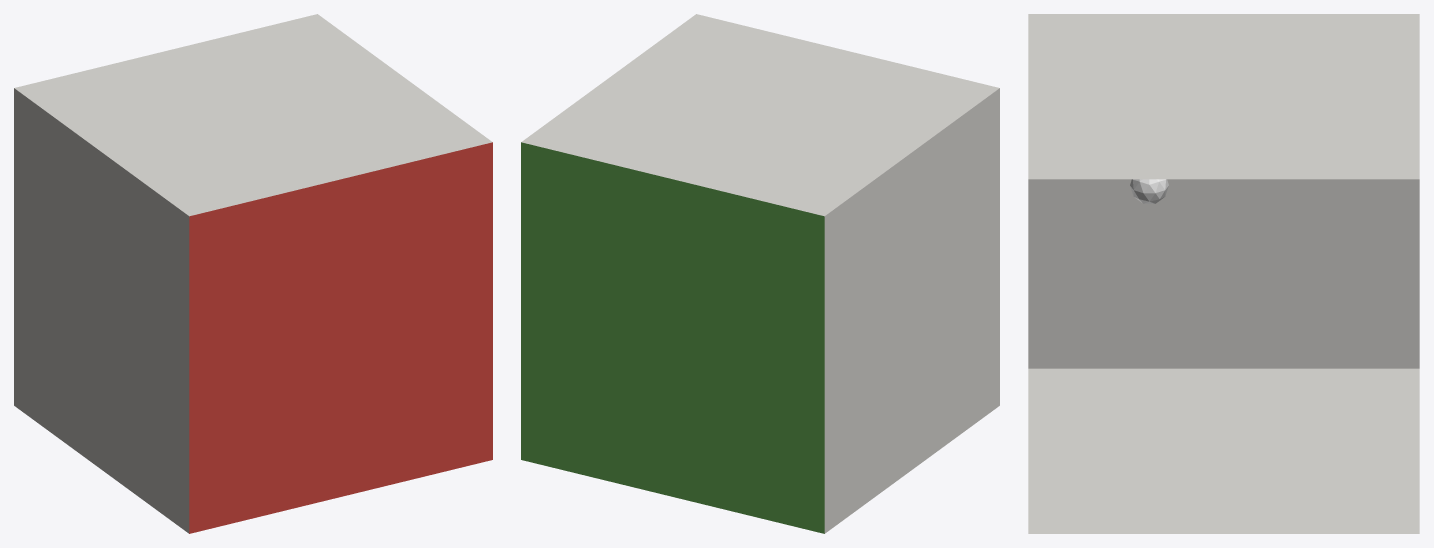
File: CornellBoxMovingLight.fbx
The picture shows the model from 3 angles, left to right: view 1: azimuth 30°, elevation 25°; view 2: azimuth 150°, elevation 25°; view 3: azimuth 270°, elevation 25°; orthographic projection. The views are drawn at different scales.
Parts seen in each view (by area): view 1: LeftWall, RearWall, Roof; view 2: RightWall, RearWall, Roof; view 3: RearWall, Floor, Roof, LightBall.
Boxes of the visible parts, x1,y1,x2,y2 form: LeftWall: (189,142,492,533); RearWall: (14,88,189,533); Roof: (14,14,492,216); RightWall: (521,142,824,533); RearWall: (824,88,999,533); Roof: (521,14,999,216); RearWall: (1028,179,1419,368); Floor: (1028,368,1419,533); Roof: (1028,14,1419,179); LightBall: (1130,179,1168,203).
Bounding box in the file's own units: 2 × 2 × 2.
